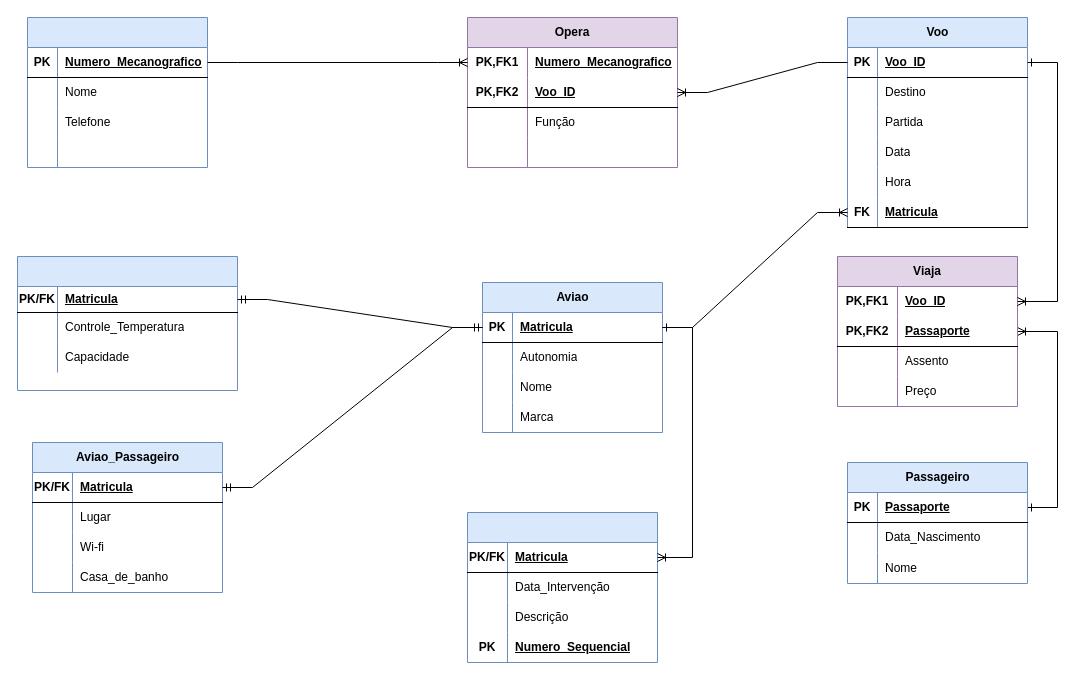
Image size: 1084x680. Some labels were removed from this diagram. Here are the shapes that lost their labels. From the top down, the box of each, then its label:
(26, 16, 208, 168): Tripulante
(16, 256, 238, 390): Aviao_Carga
(466, 512, 658, 662): Manutenção
